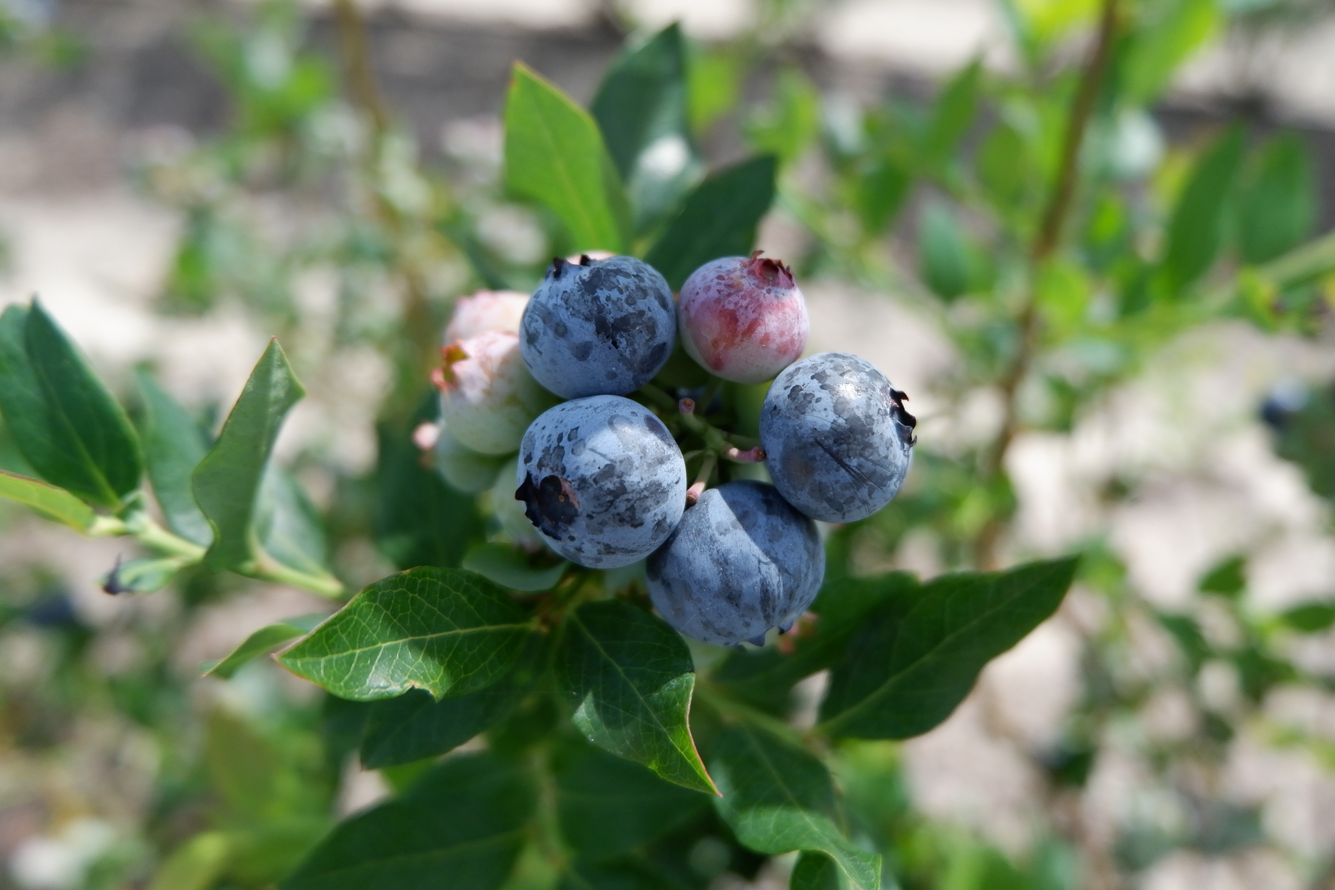Immature: (429, 330, 569, 455), (681, 257, 807, 380), (424, 422, 507, 491), (444, 291, 531, 348)
Mature: (649, 486, 822, 646), (519, 398, 682, 565), (763, 353, 913, 518), (525, 258, 674, 394)
